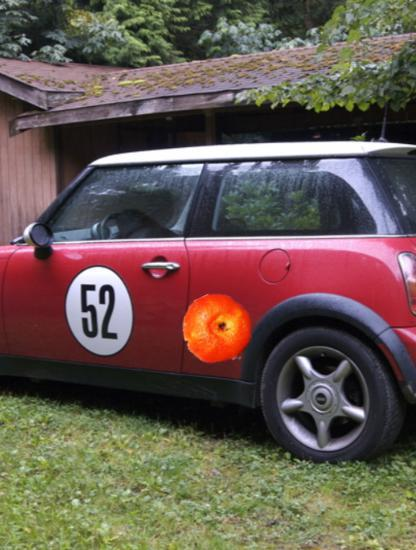Clementine: (181, 293, 255, 367)
